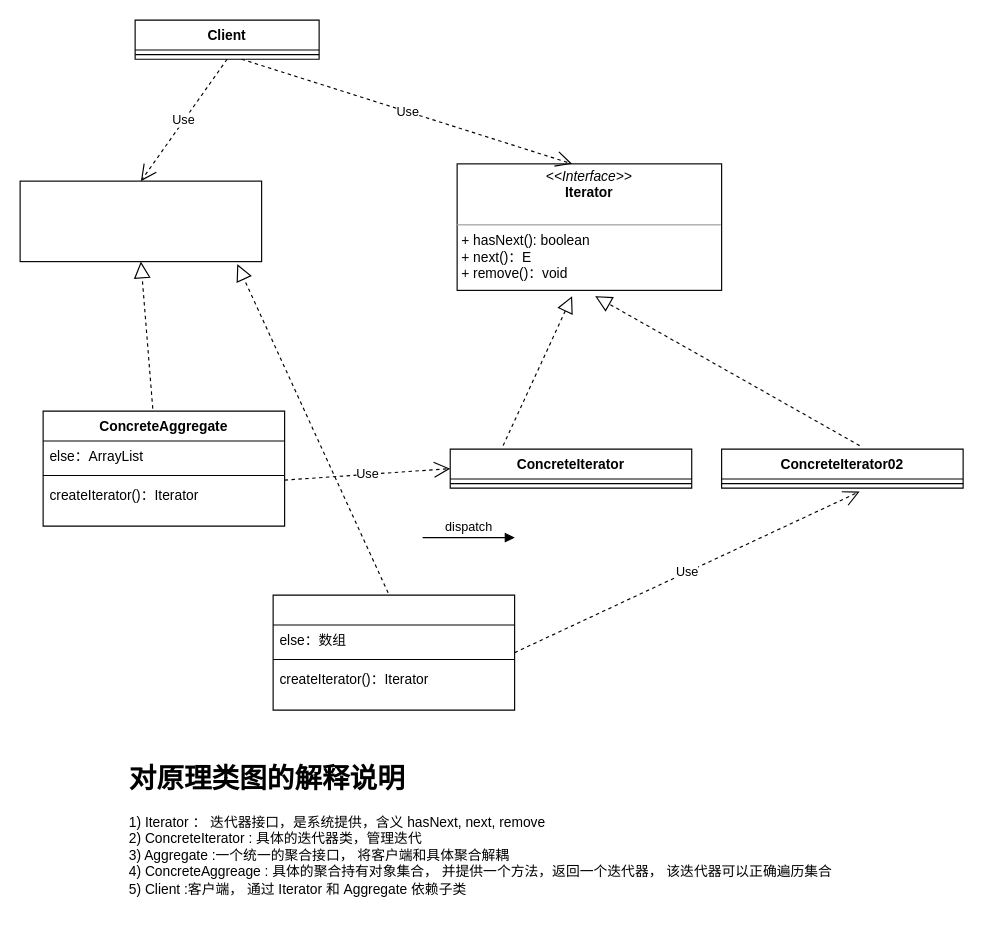
Some shapes in this 983 by 949 pixel diagram are drawn without their labels. The shapes that lost their labels are listed below. From the top down, each one's box as (x1, y1, x2, y2) in pixels, then its label:
(19, 180, 262, 262): <<Interface>> Aggregate + createIterator(): Iterator
(272, 594, 515, 710): ConcreteAggregate02
